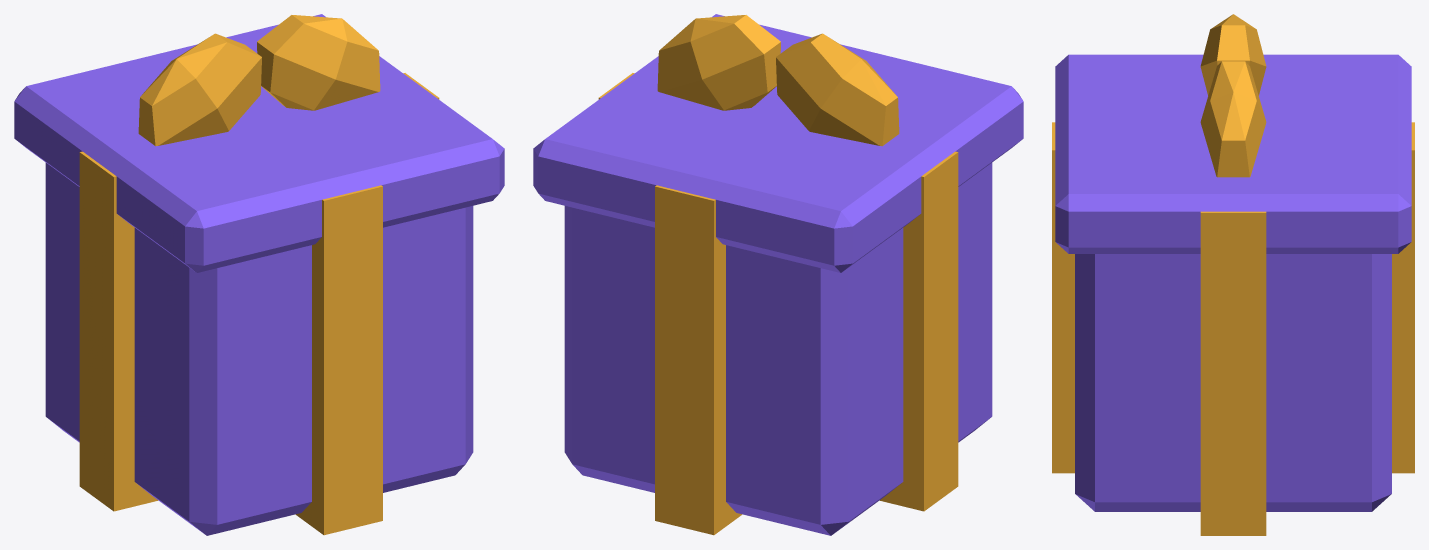
File: good_gift_box.glb
3 renders of one model, left to right at view 1: azimuth 30°, elevation 25°; view 2: azimuth 150°, elevation 25°; view 3: azimuth 270°, elevation 25°, orthographic. The views are drawn at different scales.
Visible parts, largest first — view 1: good_gift_box; view 2: good_gift_box; view 3: good_gift_box.
Part boxes in pixels (x1,y1,x2,y2): good_gift_box: (14, 14, 504, 535); good_gift_box: (533, 14, 1023, 535); good_gift_box: (1052, 14, 1414, 535).
Bounding box in the file's own units: 0.275 × 0.3479 × 0.275.
